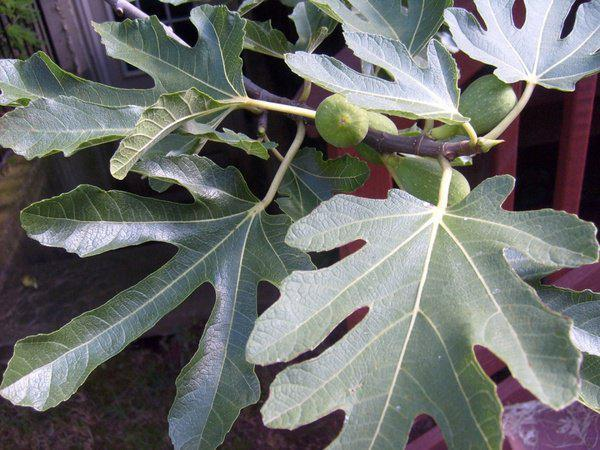apple: (313, 91, 394, 148)
